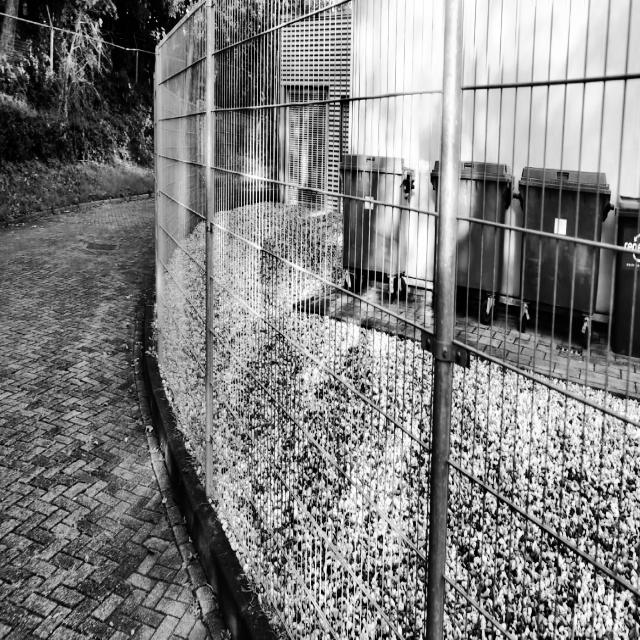fences: (230, 9, 640, 637), (140, 0, 220, 479)
